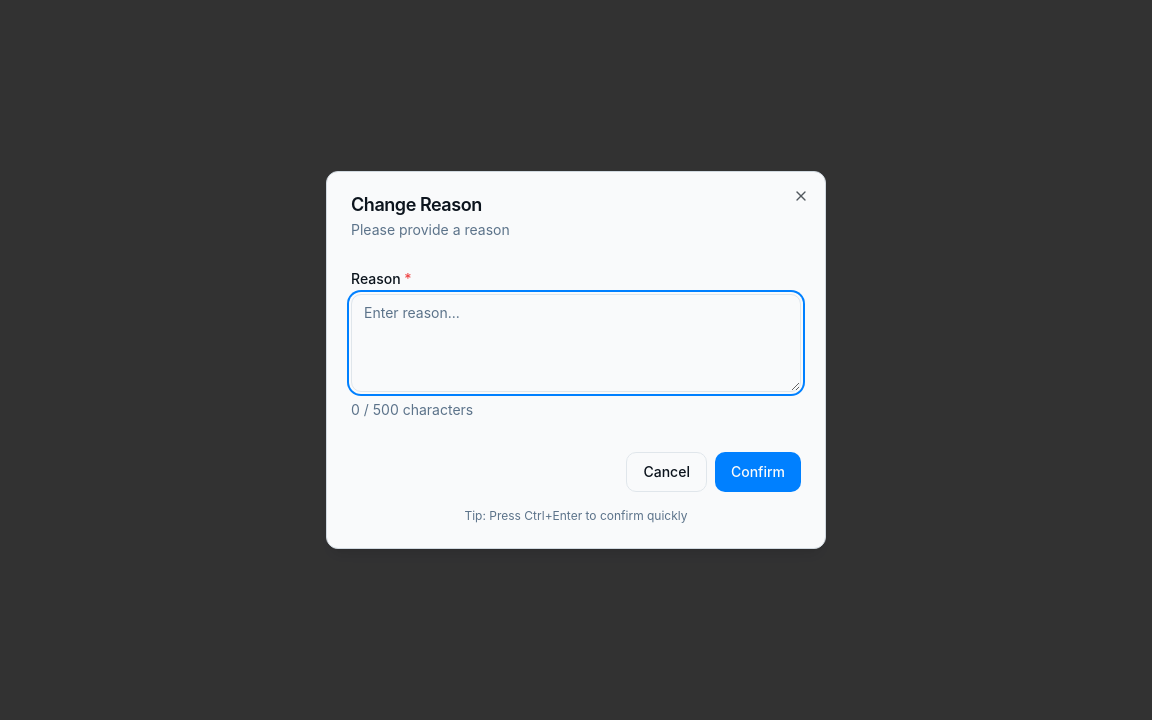
AuditReasonDialog › validates required field
Click the button "Confirm": (758, 472) top-left (715, 452), bottom-right (801, 492)
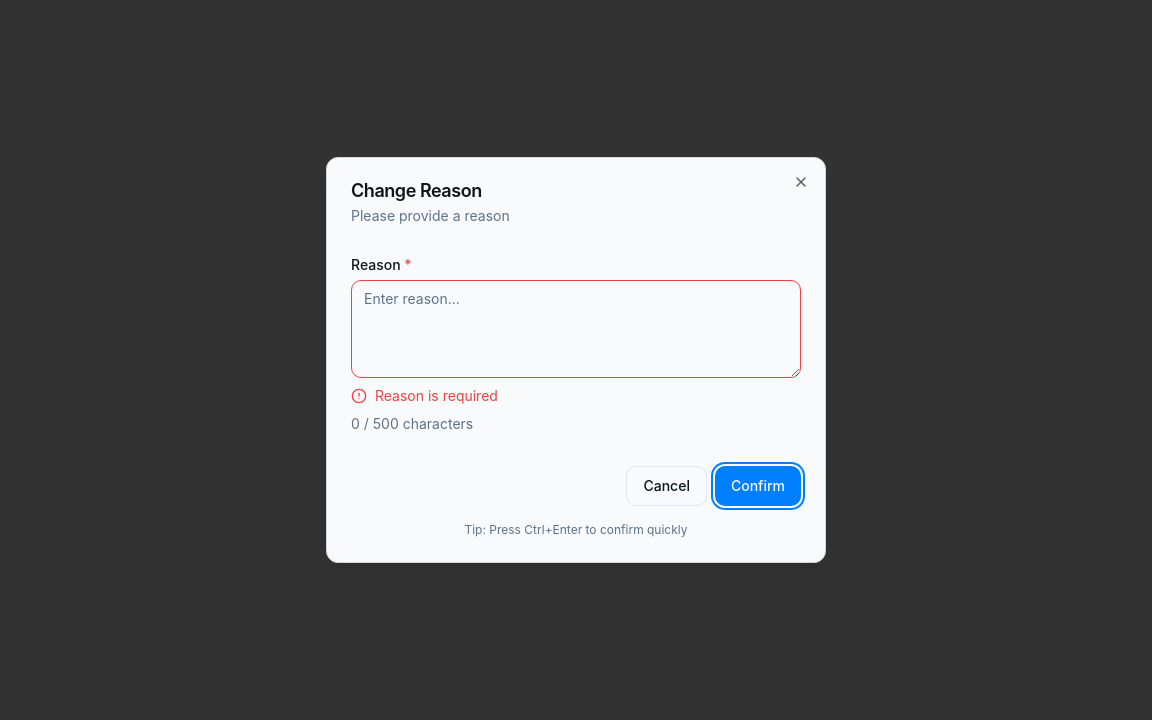
Result: the text "Reason is required" is shown at top-left (375, 386), bottom-right (498, 406)
